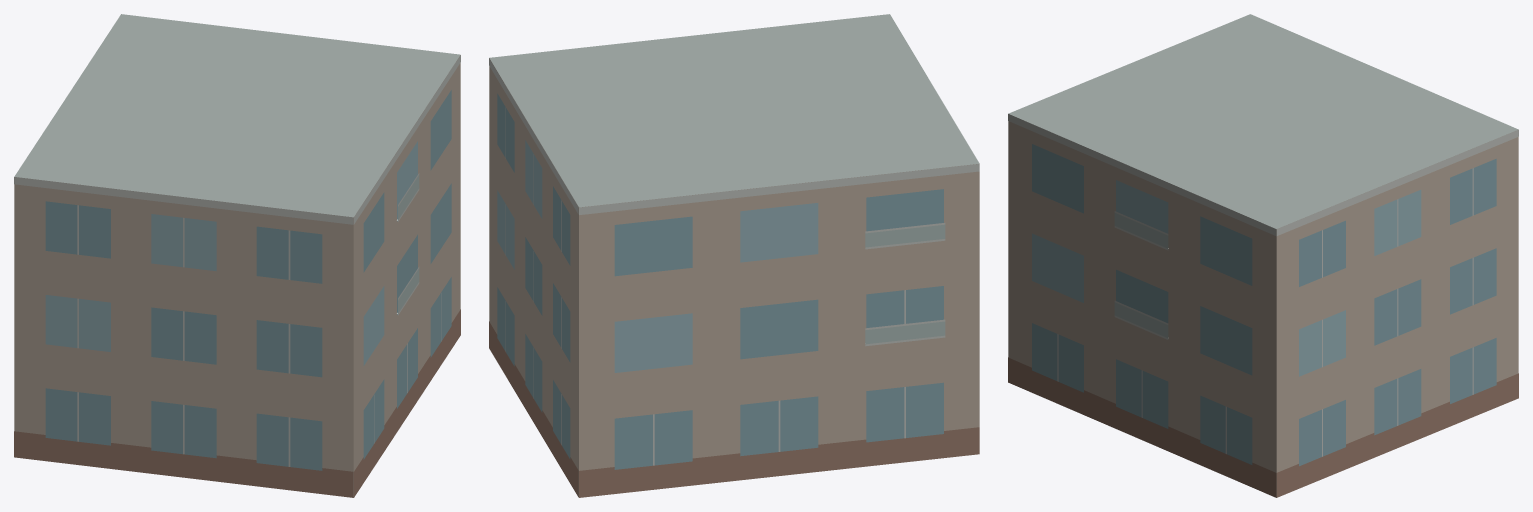
File: survey-upis-32929518.glb
3 views of the same model, side by side, from view 1: azimuth 30°, elevation 25°; view 2: azimuth 150°, elevation 25°; view 3: azimuth 270°, elevation 25° (orthographic). The views are drawn at different scales.
Visible parts, largest first — view 1: survey-upis-32929518.tmp; view 2: survey-upis-32929518.tmp; view 3: survey-upis-32929518.tmp.
Boxes of the visible parts, box(x1,y1,x2,y2) form: survey-upis-32929518.tmp: box(14, 14, 460, 497); survey-upis-32929518.tmp: box(489, 14, 979, 497); survey-upis-32929518.tmp: box(1008, 14, 1518, 497).
Bounding box in the file's own units: 15.72 × 9.15 × 15.77.
